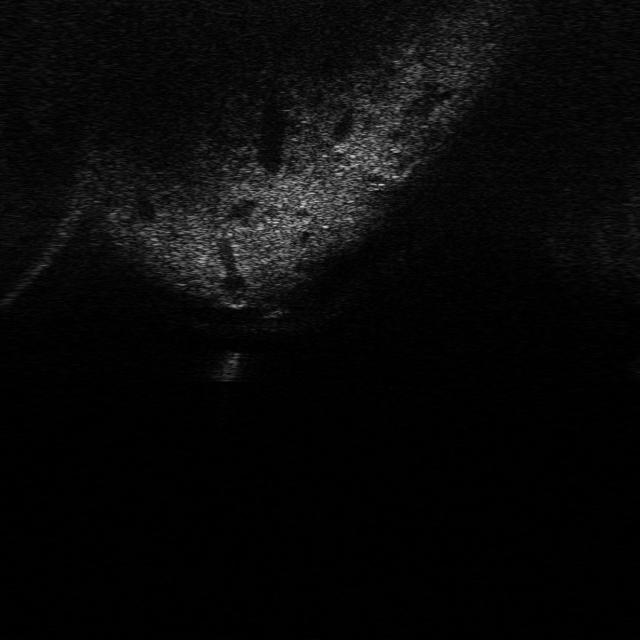cylinder: (214, 350, 240, 384)
